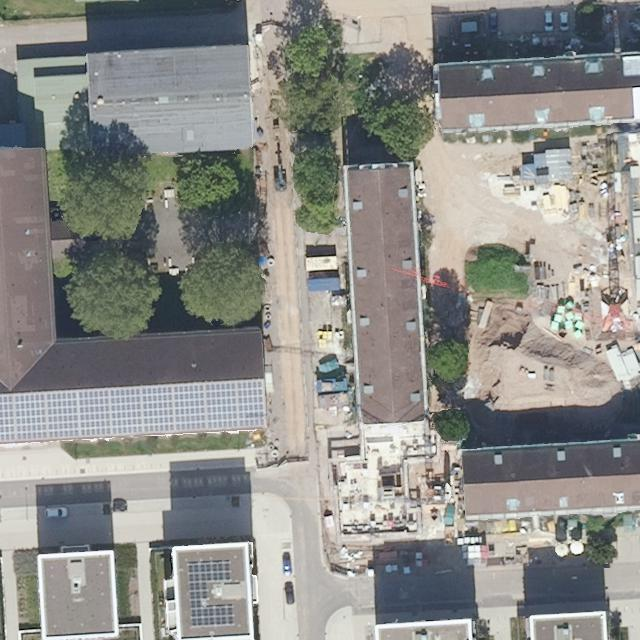PV: (2, 375, 271, 446), (184, 557, 237, 631)
